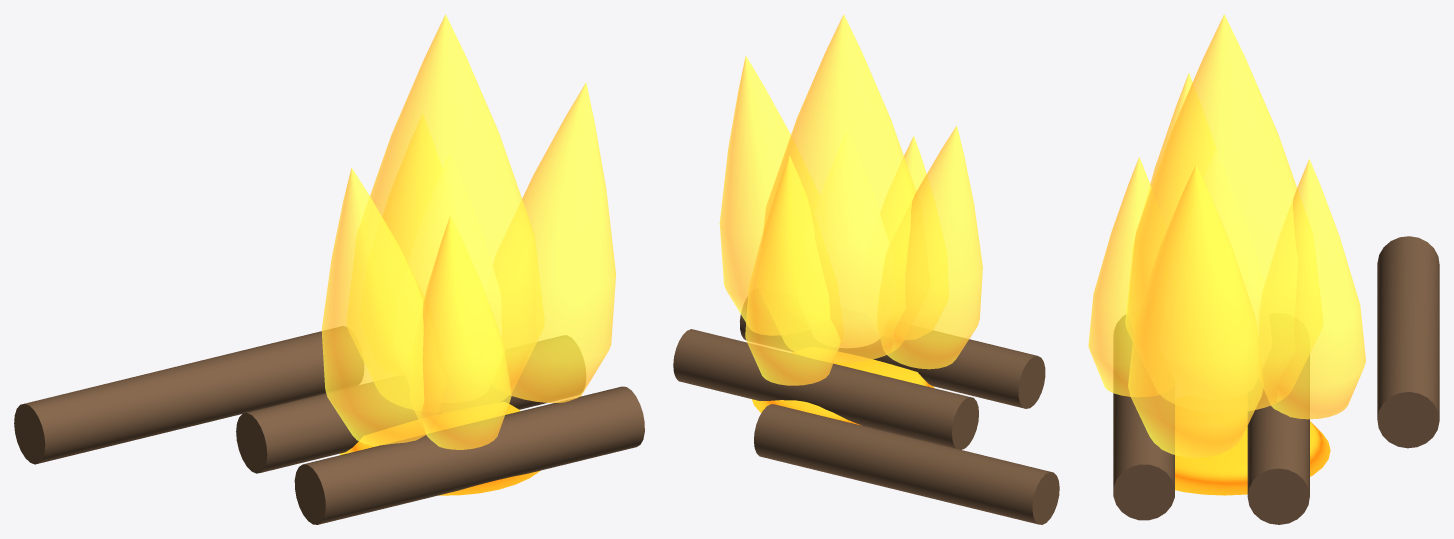
The model's file is fire.glb.
3 views of the same model, side by side, from view 1: azimuth 30°, elevation 25°; view 2: azimuth 150°, elevation 25°; view 3: azimuth 270°, elevation 25° (orthographic). The views are drawn at different scales.
Visible parts, largest first — view 1: fire; view 2: fire; view 3: fire.
Part boxes in pixels (bbox=[...]): fire: bbox=[14, 14, 644, 524]; fire: bbox=[673, 14, 1059, 524]; fire: bbox=[1088, 14, 1439, 524].
Bounding box in the file's own units: 0.388 × 0.34 × 0.2479.
